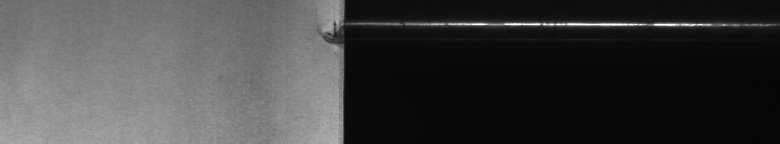hb: (316, 20, 332, 52)
